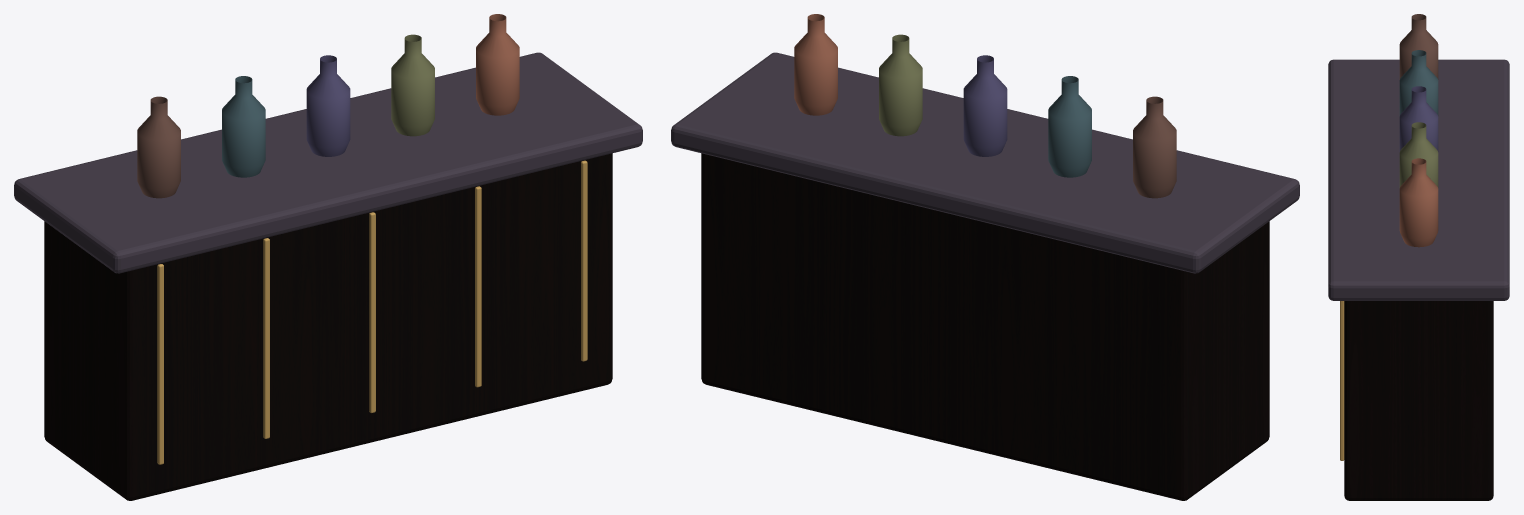
Rendered from speakeasy-bar.glb.
3 renders of one model, left to right at view 1: azimuth 30°, elevation 25°; view 2: azimuth 150°, elevation 25°; view 3: azimuth 270°, elevation 25°, orthographic. The views are drawn at different scales.
Parts seen in each view (by area): view 1: speakeasy-bar - Room Review joinery runtime PBR, speakeasy-bar - Room Review mineral stone runtime PBR, speakeasy-bar - Room Review trim runtime PBR, speakeasy-bar - Room Review book or bottle 3 runtime PBR, speakeasy-bar - Room Review book or bottle 0 runtime PBR, speakeasy-bar - Room Review book or bottle 5 runtime PBR, speakeasy-bar - Room Review book or bottle 4 runtime PBR, speakeasy-bar - Room Review book or bottle 1 runtime PBR; view 2: speakeasy-bar - Room Review joinery runtime PBR, speakeasy-bar - Room Review mineral stone runtime PBR, speakeasy-bar - Room Review book or bottle 3 runtime PBR, speakeasy-bar - Room Review book or bottle 0 runtime PBR, speakeasy-bar - Room Review book or bottle 5 runtime PBR, speakeasy-bar - Room Review book or bottle 4 runtime PBR, speakeasy-bar - Room Review book or bottle 1 runtime PBR; view 3: speakeasy-bar - Room Review mineral stone runtime PBR, speakeasy-bar - Room Review joinery runtime PBR, speakeasy-bar - Room Review book or bottle 5 runtime PBR, speakeasy-bar - Room Review book or bottle 1 runtime PBR, speakeasy-bar - Room Review book or bottle 0 runtime PBR, speakeasy-bar - Room Review book or bottle 3 runtime PBR, speakeasy-bar - Room Review book or bottle 4 runtime PBR, speakeasy-bar - Room Review trim runtime PBR.
Boxes of the visible parts, x1,y1,x2,y2 form: speakeasy-bar - Room Review joinery runtime PBR: [44, 153, 612, 500]; speakeasy-bar - Room Review mineral stone runtime PBR: [14, 52, 642, 273]; speakeasy-bar - Room Review trim runtime PBR: [157, 160, 587, 464]; speakeasy-bar - Room Review book or bottle 3 runtime PBR: [306, 55, 350, 156]; speakeasy-bar - Room Review book or bottle 0 runtime PBR: [137, 96, 180, 198]; speakeasy-bar - Room Review book or bottle 5 runtime PBR: [476, 14, 519, 115]; speakeasy-bar - Room Review book or bottle 4 runtime PBR: [391, 34, 434, 136]; speakeasy-bar - Room Review book or bottle 1 runtime PBR: [222, 76, 265, 177]; speakeasy-bar - Room Review joinery runtime PBR: [701, 153, 1269, 500]; speakeasy-bar - Room Review mineral stone runtime PBR: [671, 52, 1299, 273]; speakeasy-bar - Room Review book or bottle 3 runtime PBR: [963, 55, 1007, 156]; speakeasy-bar - Room Review book or bottle 0 runtime PBR: [1133, 96, 1176, 198]; speakeasy-bar - Room Review book or bottle 5 runtime PBR: [794, 14, 837, 115]; speakeasy-bar - Room Review book or bottle 4 runtime PBR: [879, 34, 922, 136]; speakeasy-bar - Room Review book or bottle 1 runtime PBR: [1048, 76, 1091, 177]; speakeasy-bar - Room Review mineral stone runtime PBR: [1328, 59, 1509, 300]; speakeasy-bar - Room Review joinery runtime PBR: [1344, 301, 1493, 500]; speakeasy-bar - Room Review book or bottle 5 runtime PBR: [1399, 158, 1438, 247]; speakeasy-bar - Room Review book or bottle 1 runtime PBR: [1399, 50, 1438, 115]; speakeasy-bar - Room Review book or bottle 0 runtime PBR: [1399, 14, 1438, 79]; speakeasy-bar - Room Review book or bottle 3 runtime PBR: [1399, 86, 1438, 151]; speakeasy-bar - Room Review book or bottle 4 runtime PBR: [1399, 122, 1438, 187]; speakeasy-bar - Room Review trim runtime PBR: [1340, 301, 1344, 460].
Bounding box in the file's own units: 2.5 × 1.6 × 0.85.
Materials: 8 (1 with a texture image).
